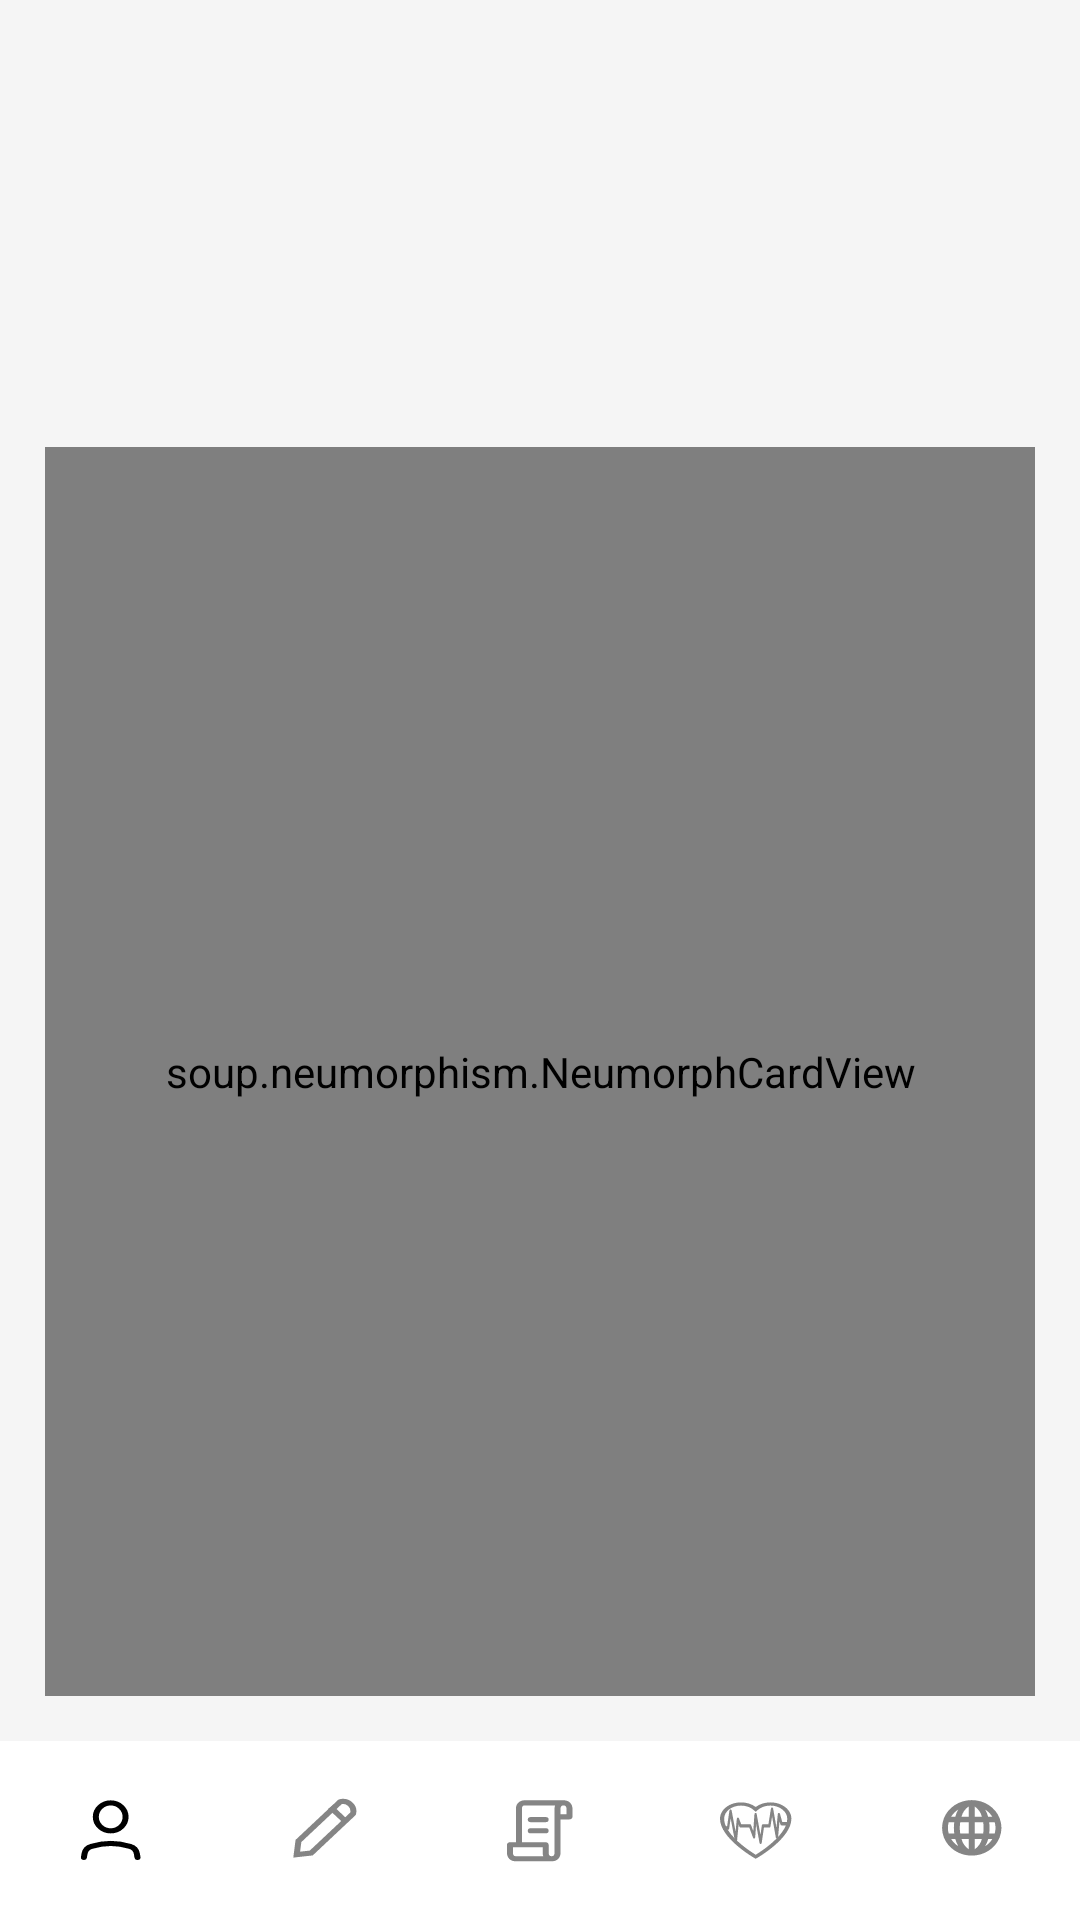

Where icons sit on this 1080w x 1920h app screen, as (x1, y1, x2, y2):
edit: (293, 1798, 357, 1858)
heart: (720, 1802, 792, 1859)
profile: (81, 1800, 141, 1860)
scroll: (507, 1800, 573, 1862)
